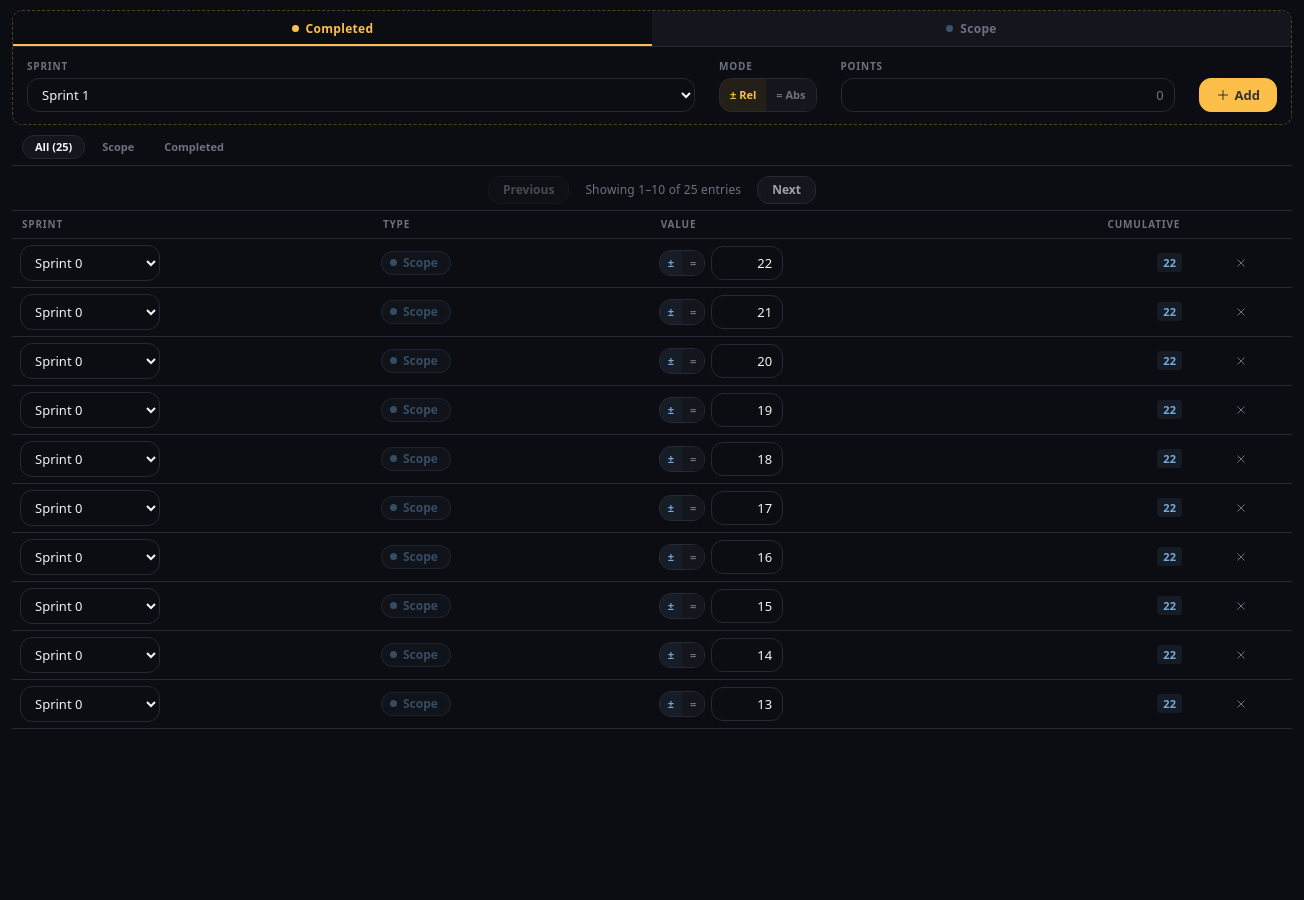
Test case: DataTable › pagination › navigates between pages with Next and Previous buttons
Expected: the text "Showing 1–10 of 25 entries" is shown, x1=585 y1=181 x2=741 y2=199
Click the button with aria-label "Next page": (787, 190) x1=757 y1=176 x2=816 y2=204
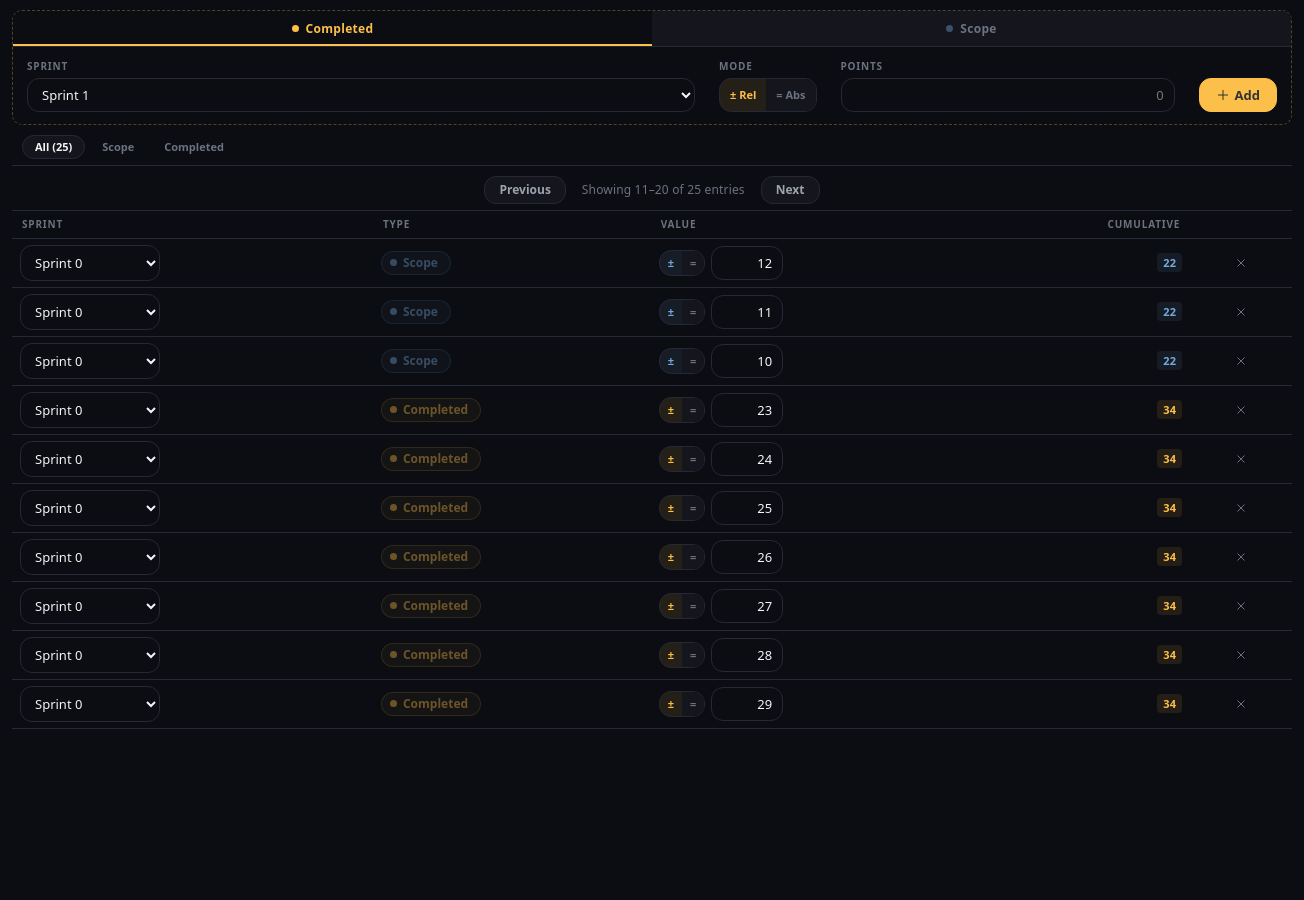
Now the text "Showing 11–20 of 25 entries" is shown, box x1=582 y1=181 x2=745 y2=199
Click the button with aria-label "Previous page": (525, 190) x1=484 y1=176 x2=566 y2=204
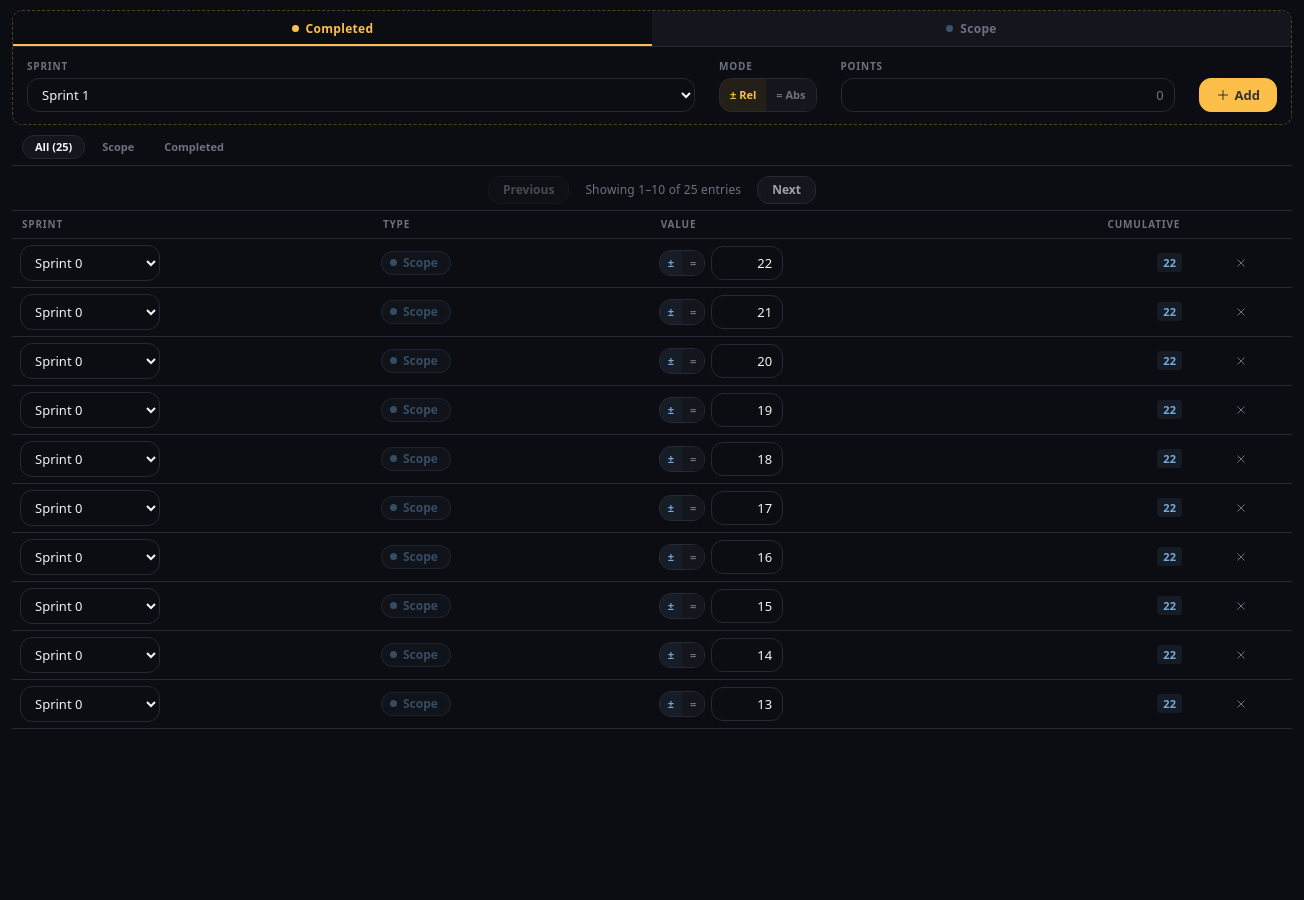
Now the text "Showing 1–10 of 25 entries" is shown, box x1=585 y1=181 x2=741 y2=199
